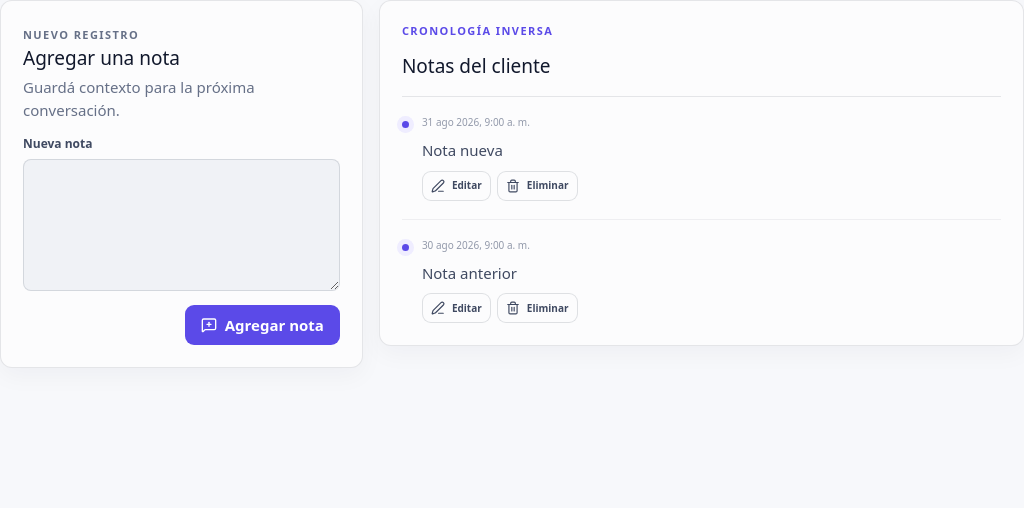
Scenario: NotesTimeline › closes the editor, restores focus and refreshes after a successful edit
The image size is (1024, 508).
Step 1. Click the button with aria-label "Editar Nota nueva" → (456, 186), box x1=422 y1=170 x2=491 y2=200
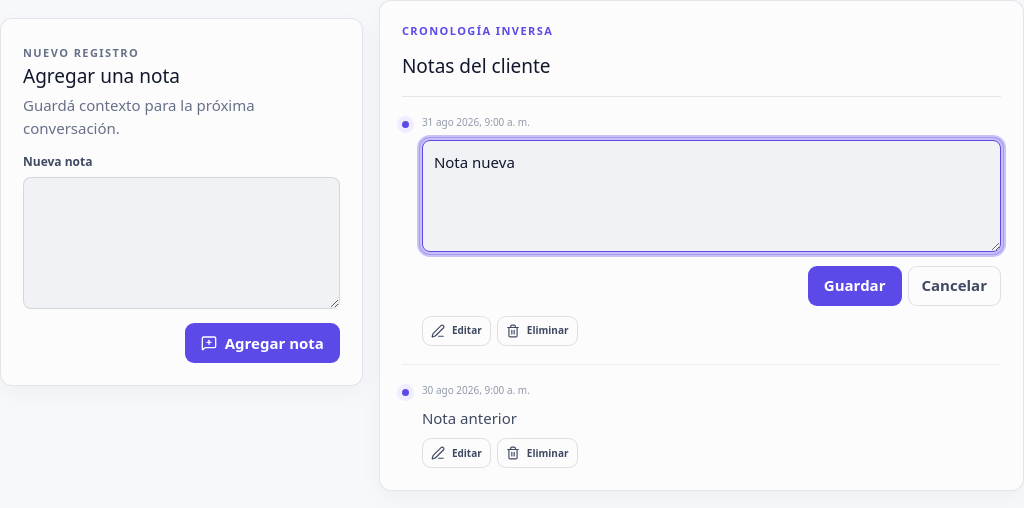
Step 2. Replace the text in the text box named "Editar nota Nota nueva" with "Contenido corregido" → (711, 196), box x1=422 y1=140 x2=1001 y2=252
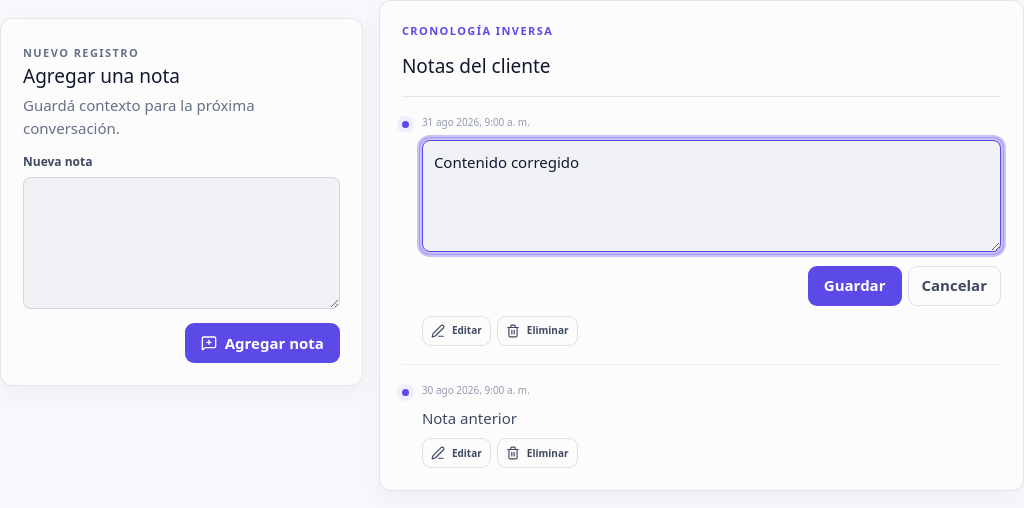
Step 3. Click the button "Guardar" → (855, 286), box x1=808 y1=266 x2=902 y2=306
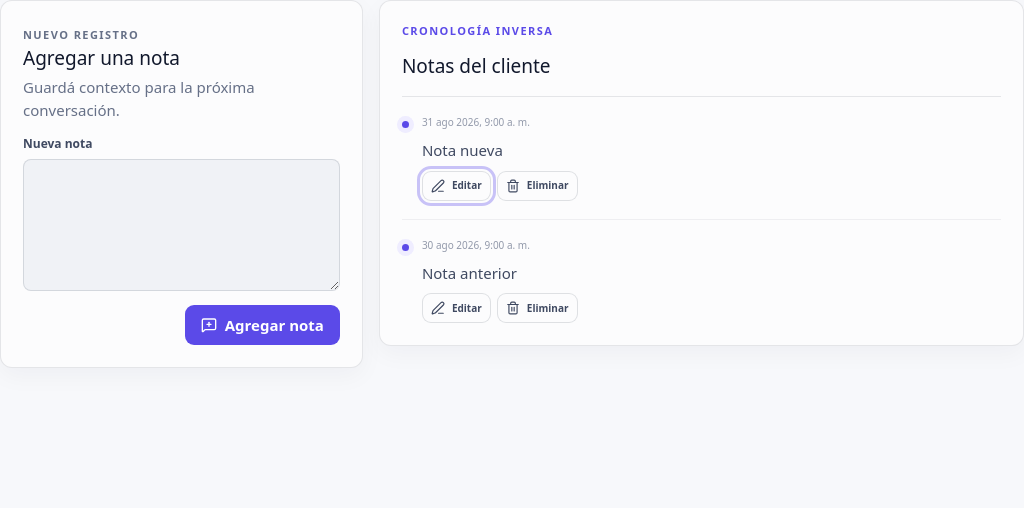
Expected: the field labelled "Editar nota Nota nueva" is not shown
Expected: the text "Nota nueva" is shown, x1=422 y1=140 x2=503 y2=160
